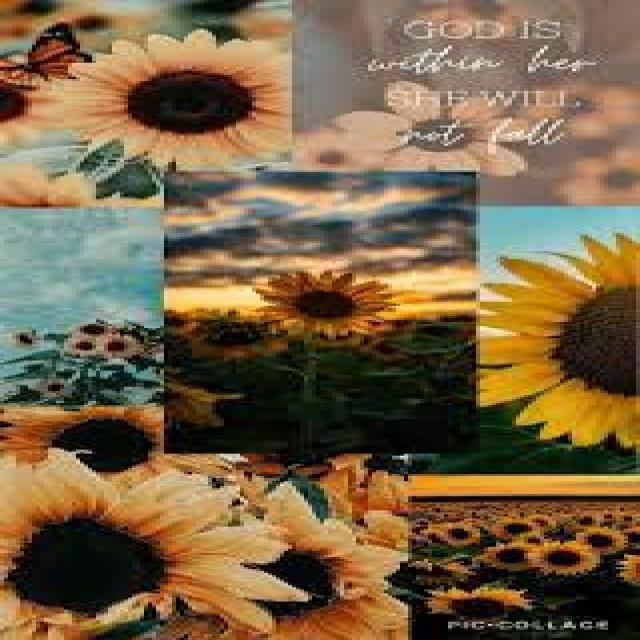sunflower: (1, 446, 309, 638), (158, 480, 412, 640), (472, 231, 636, 447), (48, 26, 292, 166), (337, 82, 537, 176), (0, 403, 165, 479), (252, 268, 396, 340), (0, 165, 165, 207), (179, 468, 298, 524), (0, 78, 92, 146), (514, 80, 622, 136), (180, 306, 284, 358), (557, 149, 640, 207), (296, 128, 378, 172), (163, 384, 244, 426), (426, 583, 528, 616), (194, 7, 292, 39), (524, 538, 600, 576), (476, 540, 532, 572), (420, 520, 480, 547), (572, 524, 624, 551), (58, 12, 125, 32), (0, 0, 60, 20), (416, 560, 465, 584), (491, 518, 536, 539), (97, 336, 138, 358), (618, 552, 640, 584), (74, 323, 116, 339), (63, 338, 99, 353), (34, 380, 66, 394), (13, 334, 39, 348)
